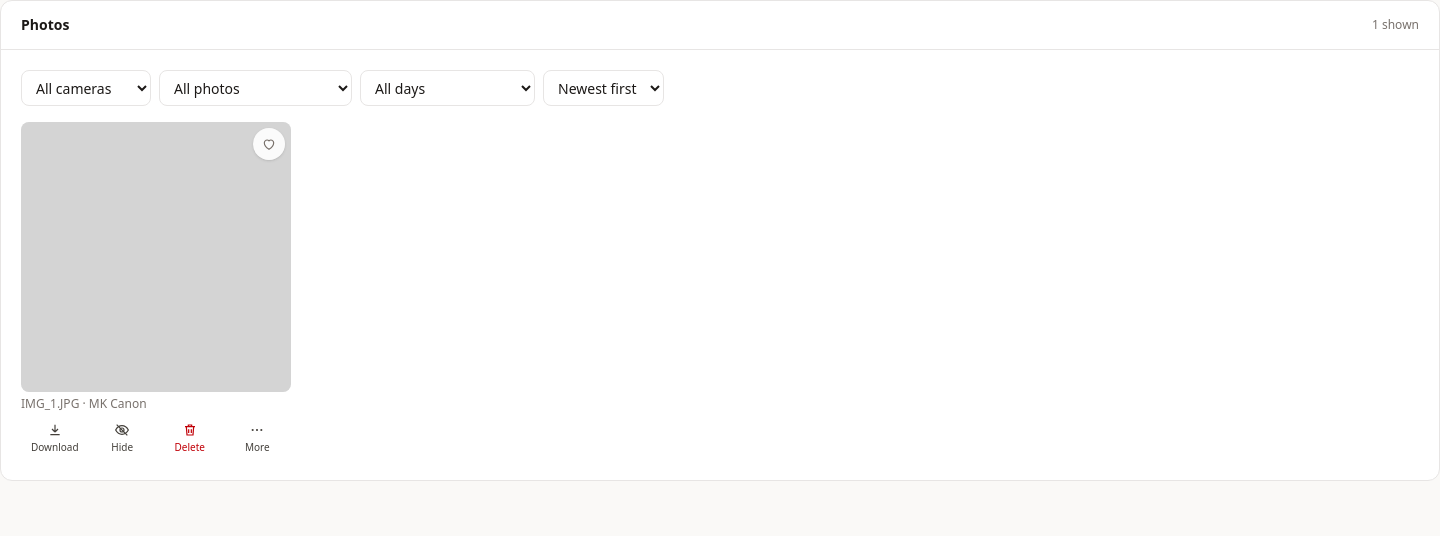
Test case: Dashboard photos › closes the More menu when clicking outside it
The image size is (1440, 536).
Click the button "More": (257,438) 224,416 -> 291,460
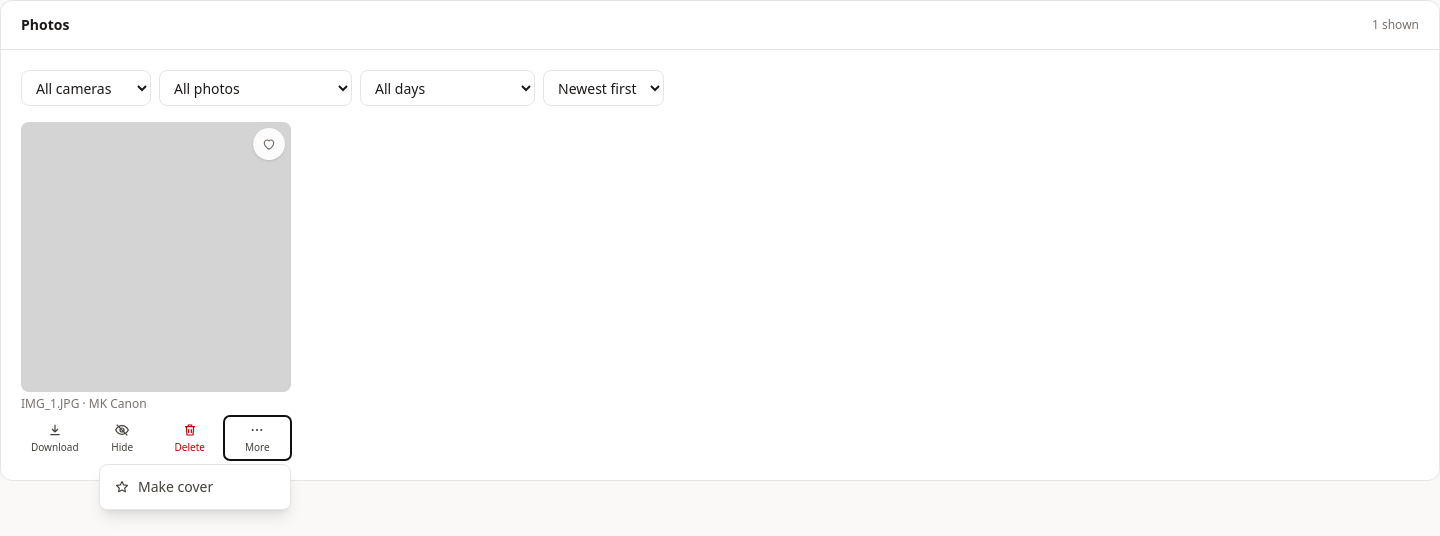
Expected: the menu is shown, 99,464 -> 291,510
Click the heading "Photos": (45,25) 21,15 -> 69,35
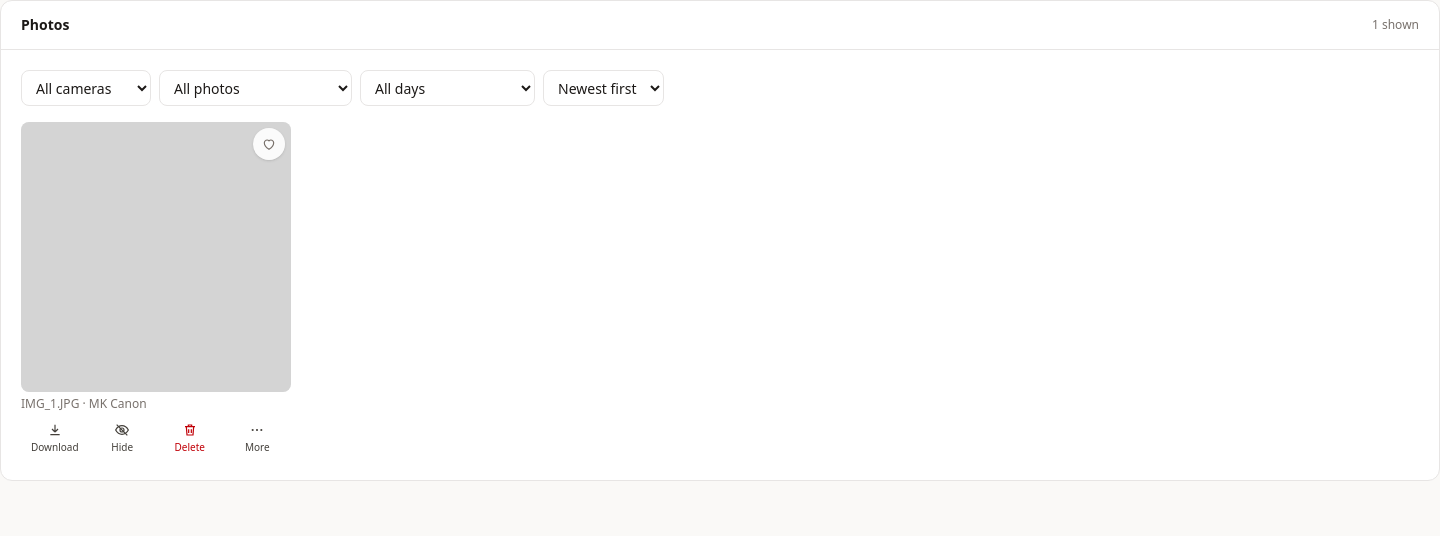
Expected: the menu is gone
